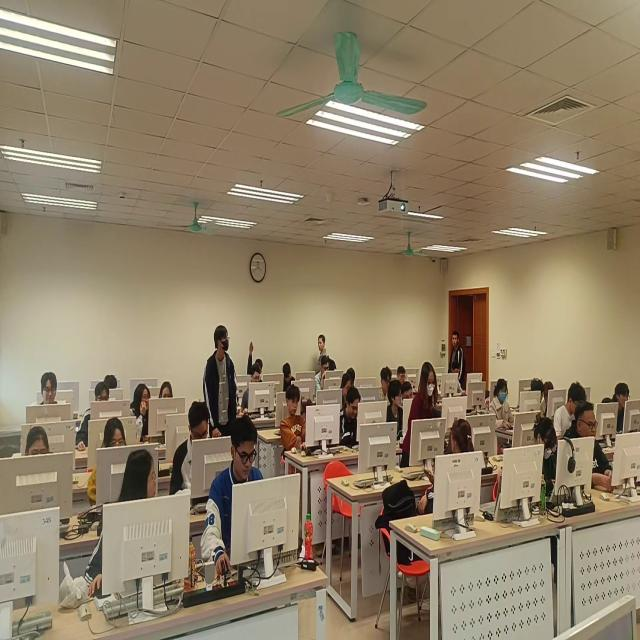raise_head: (38, 372, 70, 428), (158, 383, 182, 429), (245, 341, 264, 386), (379, 367, 394, 408)
stand: (204, 326, 240, 452), (401, 363, 439, 482), (447, 331, 468, 398)
using_computer: (202, 415, 284, 579), (564, 404, 624, 496), (13, 423, 66, 526), (174, 404, 220, 500), (87, 414, 132, 506), (519, 419, 558, 510), (285, 385, 326, 469), (74, 377, 114, 452), (490, 378, 521, 439), (607, 385, 640, 439), (338, 391, 370, 445), (556, 386, 588, 433), (389, 380, 412, 439), (451, 363, 473, 401), (317, 358, 336, 396), (284, 363, 301, 394)
